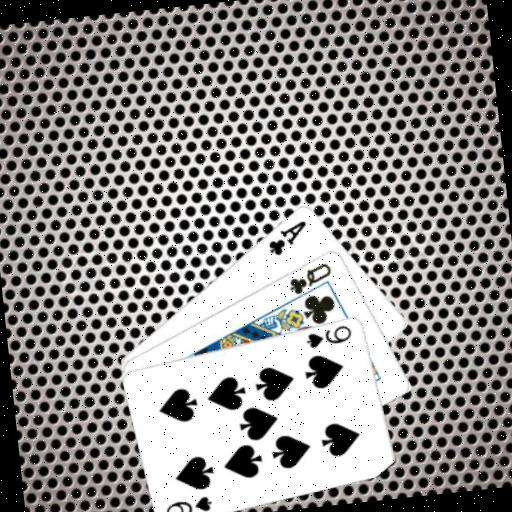9S: (302, 322, 355, 351), (162, 491, 215, 512)
AC: (263, 216, 312, 258)
QC: (284, 259, 335, 296)
